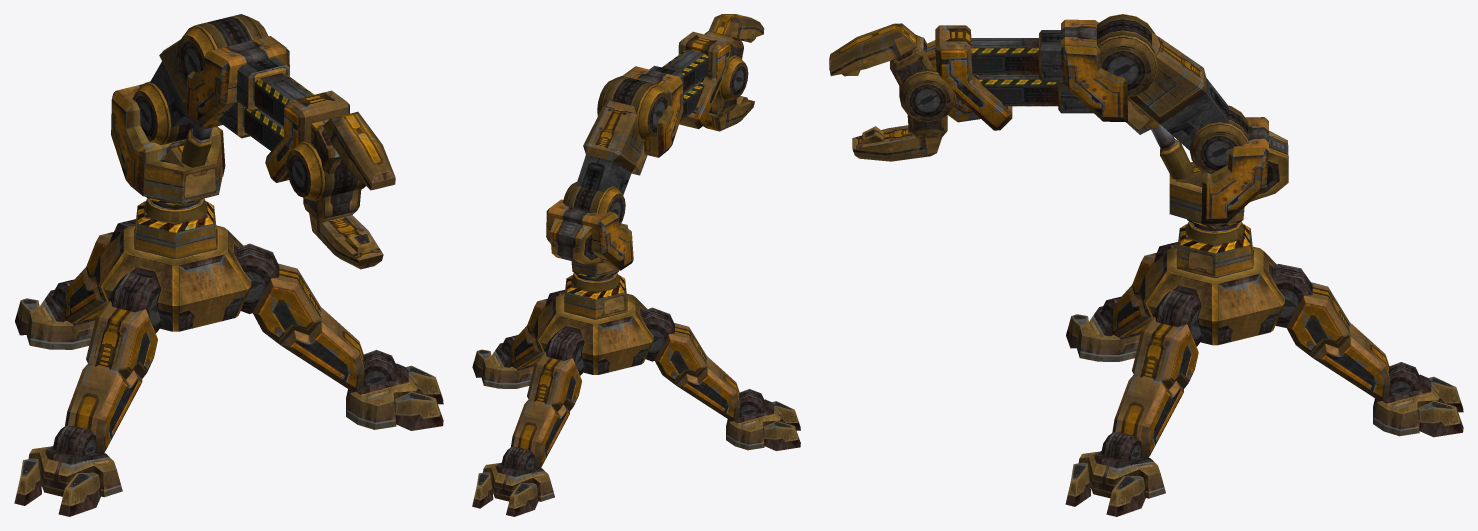
The model's file is crane_00.fbx.
The picture shows the model from 3 angles, left to right: view 1: azimuth 30°, elevation 25°; view 2: azimuth 150°, elevation 25°; view 3: azimuth 270°, elevation 25°; orthographic projection. The views are drawn at different scales.
Visible parts, largest first — view 1: Geoset_0; view 2: Geoset_0; view 3: Geoset_0.
Boxes of the visible parts, bbox=[...] form: Geoset_0: bbox=[14, 14, 443, 516]; Geoset_0: bbox=[472, 14, 800, 516]; Geoset_0: bbox=[829, 14, 1463, 516].
Size of the model in its own units: 5.44 by 5.18 by 7.52.
1 material, 1 textured.
